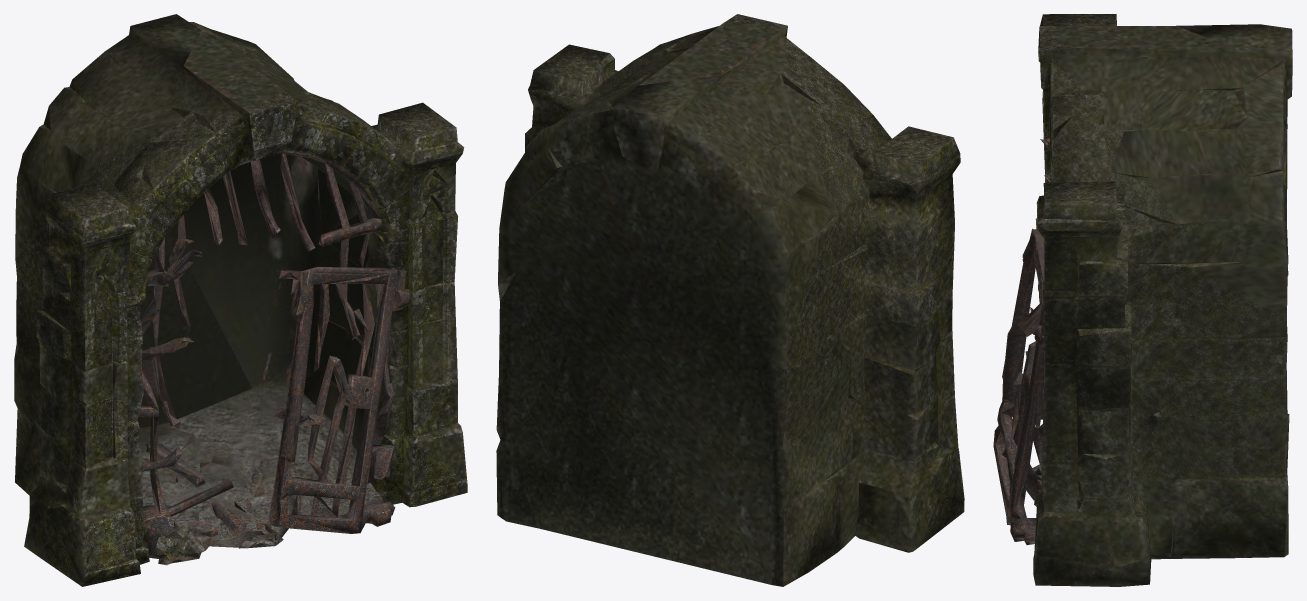
Rendered from prison-cell-busted.glb.
3 views of the same model, side by side, from view 1: azimuth 30°, elevation 25°; view 2: azimuth 150°, elevation 25°; view 3: azimuth 270°, elevation 25° (orthographic). The views are drawn at different scales.
Bounding box in the file's own units: 1.9 × 2 × 1.2.
1 material, 1 textured.
